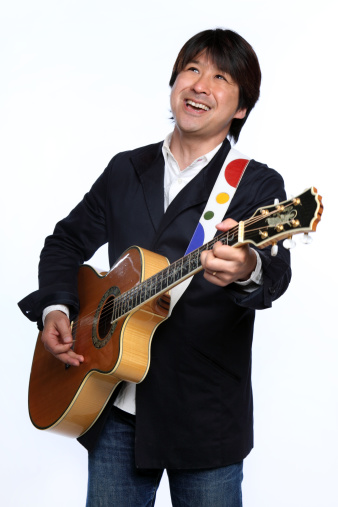em pe: (52, 17, 281, 507)
